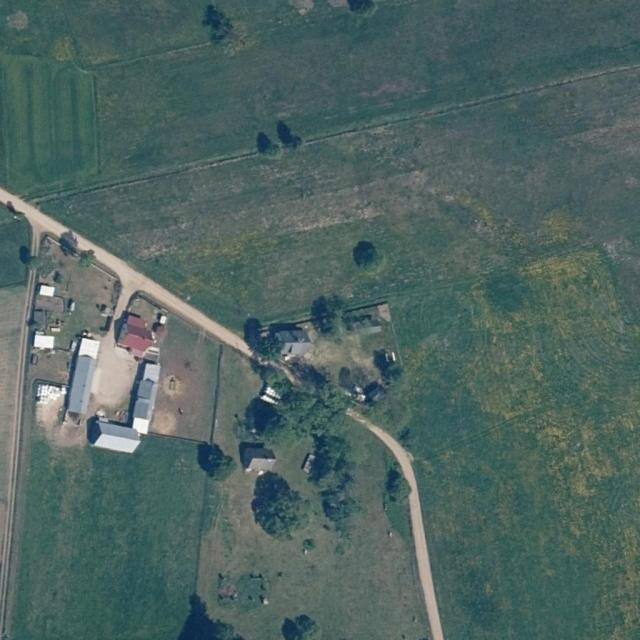agricultural_land: (10, 425, 211, 640)
